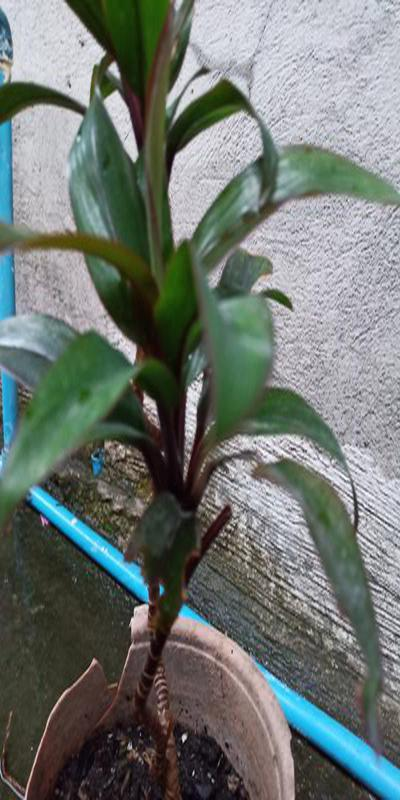Baston de san jose: (33, 5, 362, 782)
